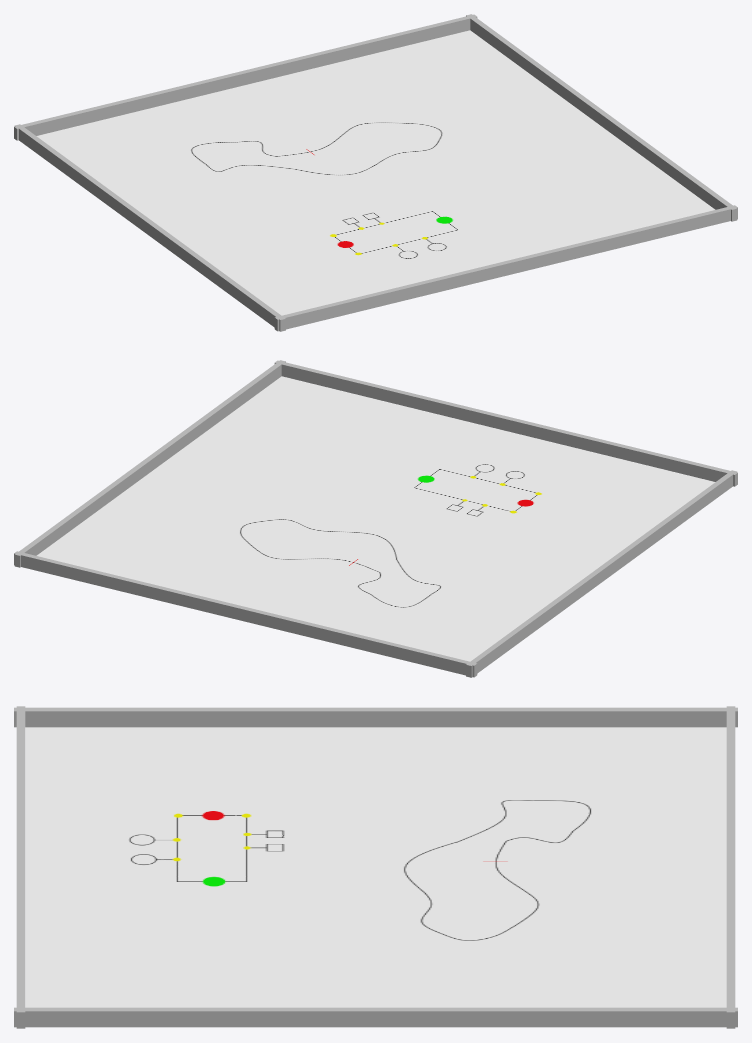
File: Field.FBX
The picture shows the model from 3 angles, top to bottom: view 1: azimuth 30°, elevation 25°; view 2: azimuth 150°, elevation 25°; view 3: azimuth 270°, elevation 25°; orthographic projection. The views are drawn at different scales.
Parts seen in each view (by area): view 1: Floor, Wall3, Wall1, Wall4, Wall2; view 2: Floor, Wall1, Wall3, Wall4, Wall2; view 3: Floor, Wall2, Wall4, Wall3, Wall1.
Boxes of the visible parts, box(x1,y1,x2,y2) form: Floor: box(36, 30, 715, 315); Wall3: box(274, 205, 737, 331); Wall1: box(14, 14, 477, 140); Wall4: box(14, 124, 285, 331); Wall2: box(466, 14, 737, 221); Floor: box(36, 376, 714, 661); Wall1: box(14, 551, 477, 677); Wall3: box(274, 360, 737, 486); Wall4: box(466, 470, 737, 677); Wall2: box(14, 360, 285, 567); Floor: box(25, 727, 726, 1007); Wall2: box(14, 1007, 737, 1027); Wall4: box(14, 707, 737, 727); Wall3: box(16, 706, 25, 1028); Wall1: box(726, 706, 735, 1028).
Bounding box in the file's own units: 4016 × 98.43 × 4016.
